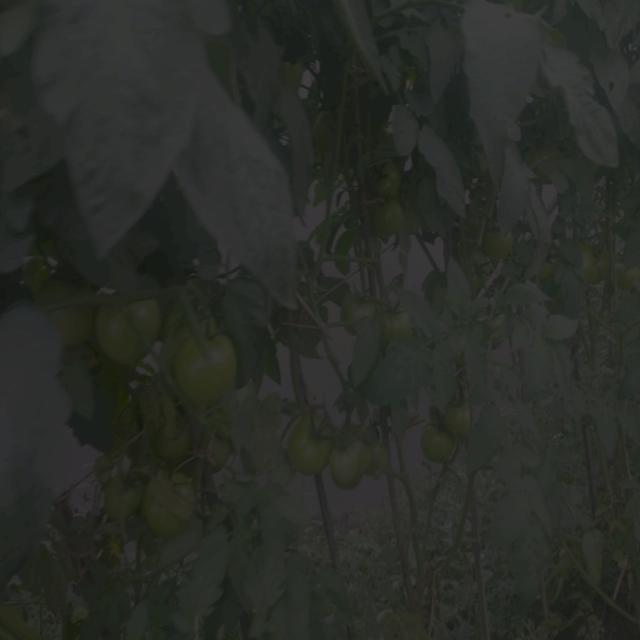tomato: (171, 325, 237, 416), (101, 295, 157, 370), (419, 398, 476, 460), (47, 279, 92, 341), (96, 468, 144, 526), (291, 412, 334, 475), (151, 475, 197, 533), (344, 434, 388, 492), (523, 143, 566, 182), (488, 228, 526, 270), (155, 427, 195, 463), (345, 291, 376, 337), (585, 241, 613, 288), (312, 107, 344, 147), (383, 309, 413, 344), (377, 199, 405, 236), (371, 167, 404, 195), (617, 261, 640, 294), (464, 260, 484, 290), (539, 259, 555, 287)
